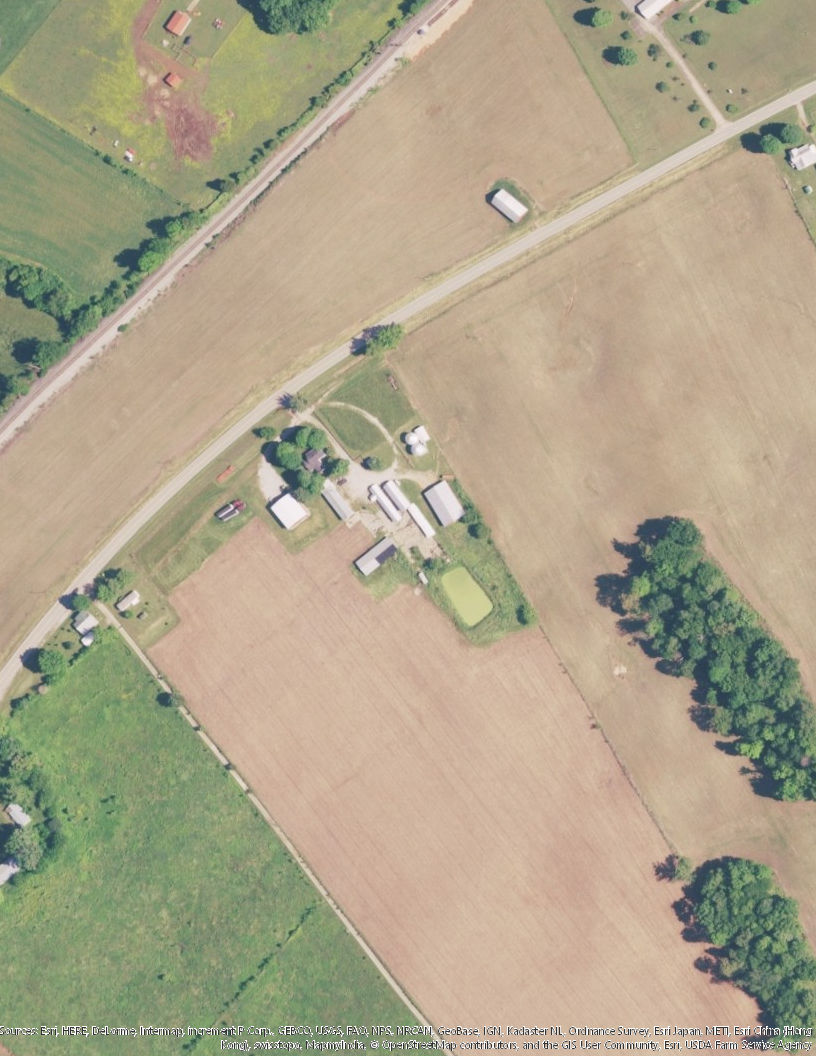cafo: (368, 475, 439, 541), (419, 473, 470, 531), (349, 534, 406, 578), (320, 484, 353, 524)
